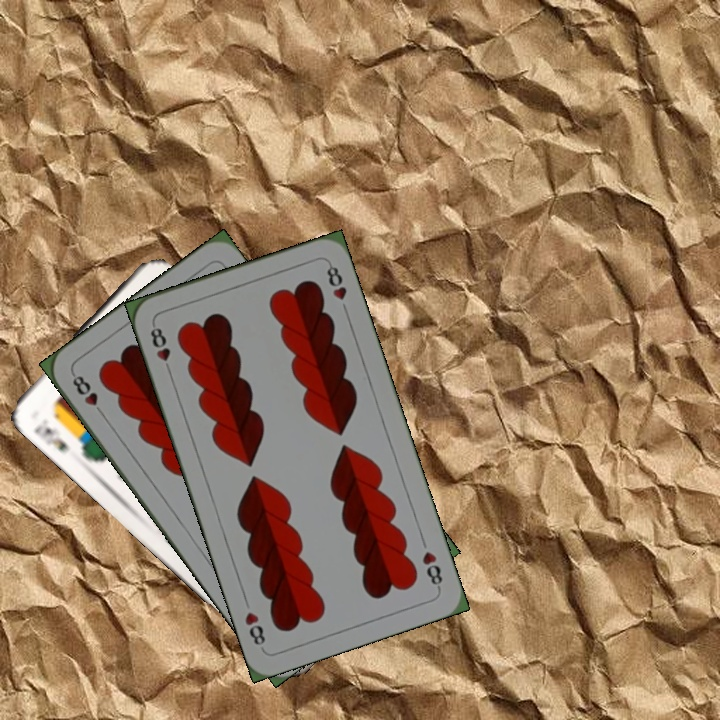EK: (30, 414, 73, 454)
H8: (68, 369, 109, 420), (146, 319, 175, 377), (418, 547, 445, 592)
